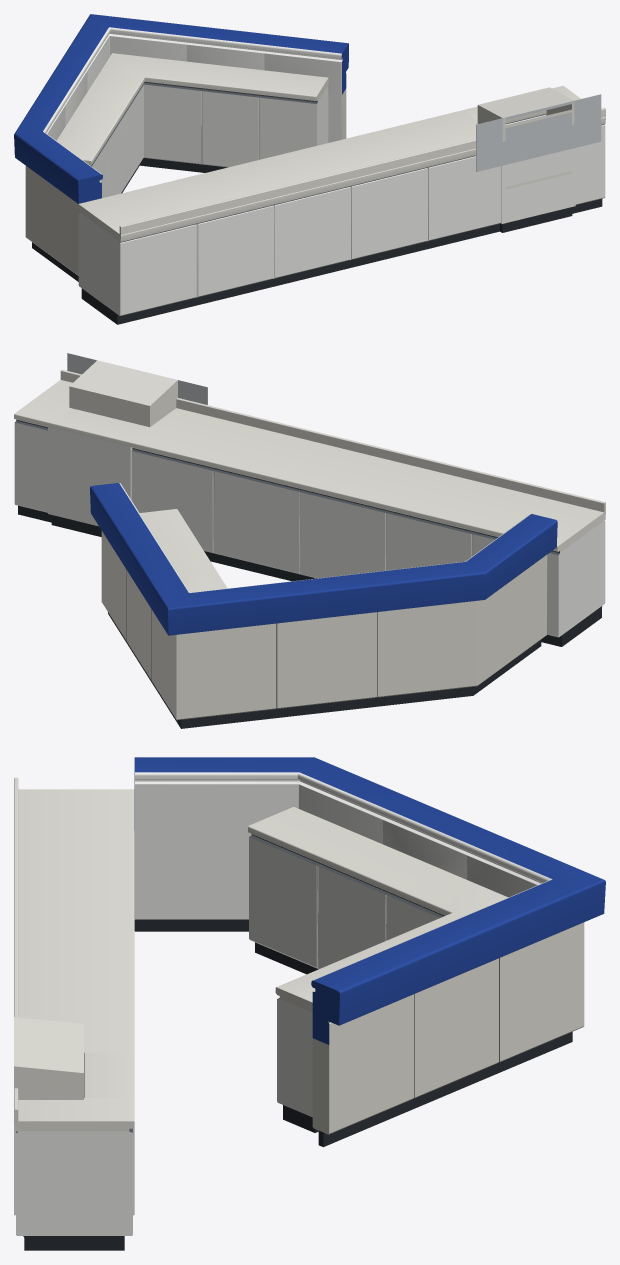
File: exit-return-counter-1990.glb
The picture shows the model from 3 angles, top to bottom: view 1: azimuth 30°, elevation 25°; view 2: azimuth 150°, elevation 25°; view 3: azimuth 270°, elevation 25°; orthographic projection. The views are drawn at different scales.
Visible parts, largest first — view 1: ExitReturnCounter; view 2: ExitReturnCounter; view 3: ExitReturnCounter.
Part boxes in pixels (x1,y1,x2,y2): ExitReturnCounter: (14,14,605,324); ExitReturnCounter: (14,353,605,728); ExitReturnCounter: (14,757,605,1250).
Size of the model in its own units: 15.5 by 3.55 by 11.68.
